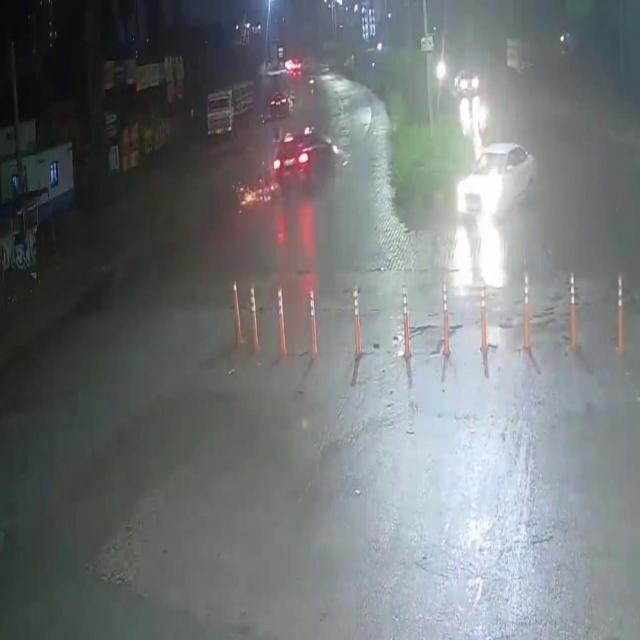accident: (228, 125, 338, 227)
